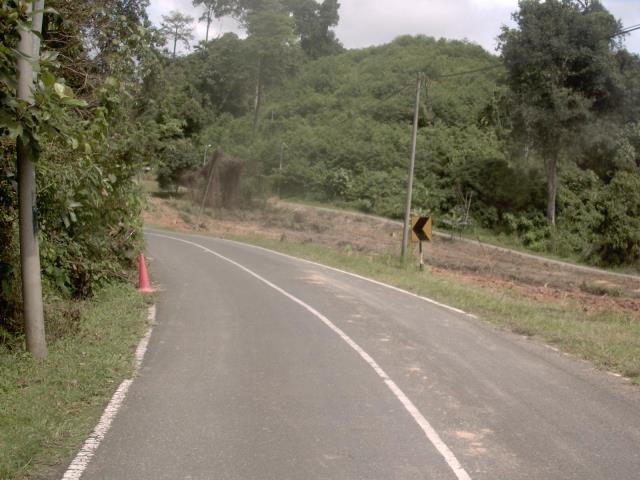traffic_sign: (405, 207, 440, 250)
